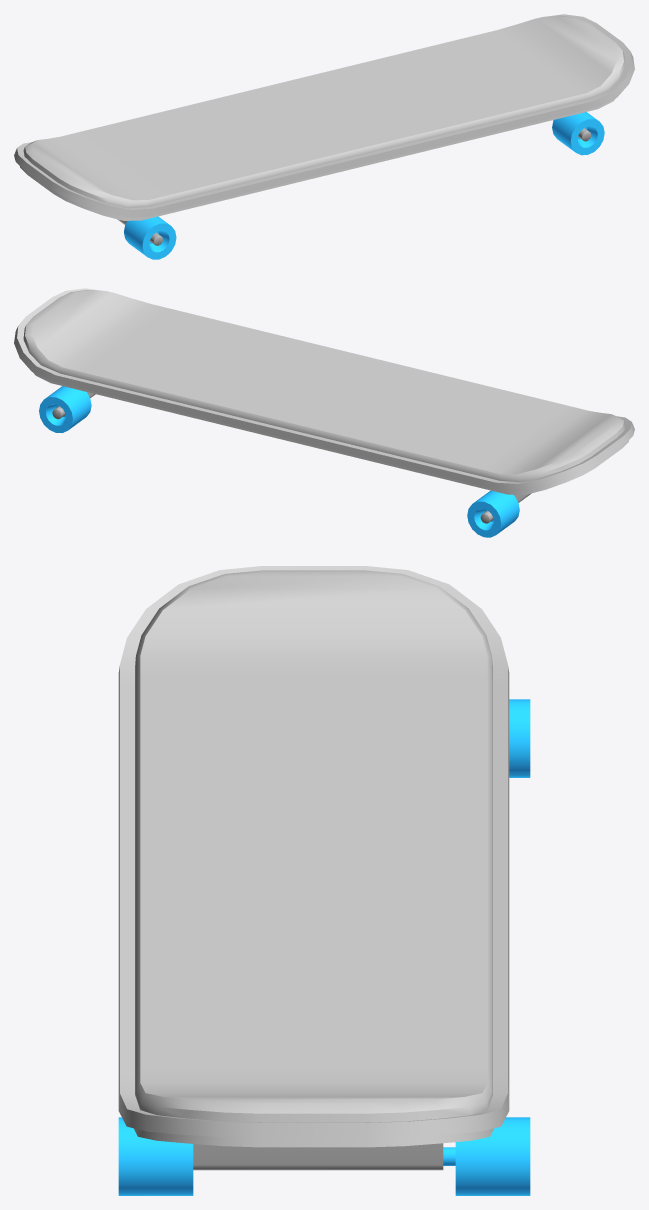
Rendered from Skateboard.fbx.
The picture shows the model from 3 angles, top to bottom: view 1: azimuth 30°, elevation 25°; view 2: azimuth 150°, elevation 25°; view 3: azimuth 270°, elevation 25°; orthographic projection. The views are drawn at different scales.
Visible parts, largest first — view 1: Cube_1, Cylinder_3, Cylinder_2; view 2: Cube_1, Cylinder, Cylinder_1; view 3: Cube_1, Cylinder_1, Cylinder_2, Cylinder.
Part boxes in pixels (bbox=[...]): Cube_1: bbox=[14, 14, 634, 224]; Cylinder_3: bbox=[124, 216, 176, 259]; Cylinder_2: bbox=[552, 112, 604, 155]; Cube_1: bbox=[14, 288, 634, 502]; Cylinder: bbox=[467, 490, 519, 537]; Cylinder_1: bbox=[39, 386, 91, 432]; Cube_1: bbox=[118, 566, 509, 1170]; Cylinder_1: bbox=[443, 1117, 530, 1195]; Cylinder_2: bbox=[118, 1117, 193, 1195]; Cylinder: bbox=[509, 699, 530, 777].
Bounding box in the file's own units: 323 × 38.82 × 99.95.
